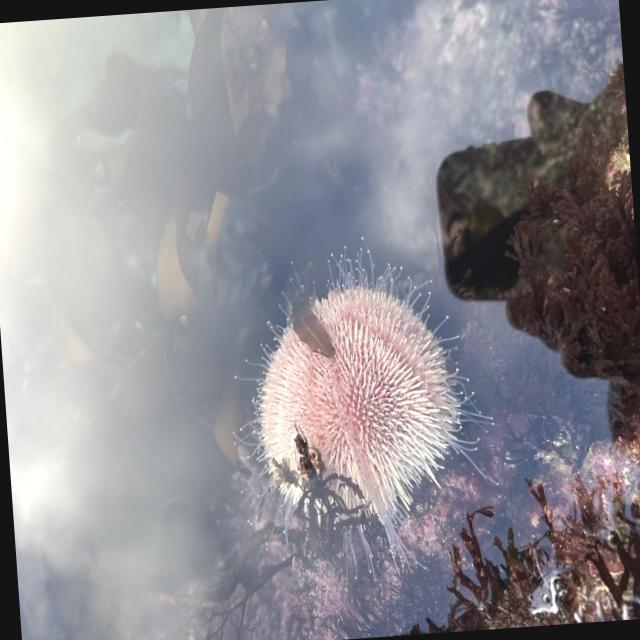Deniz Kestanesi: (217, 226, 504, 586)
